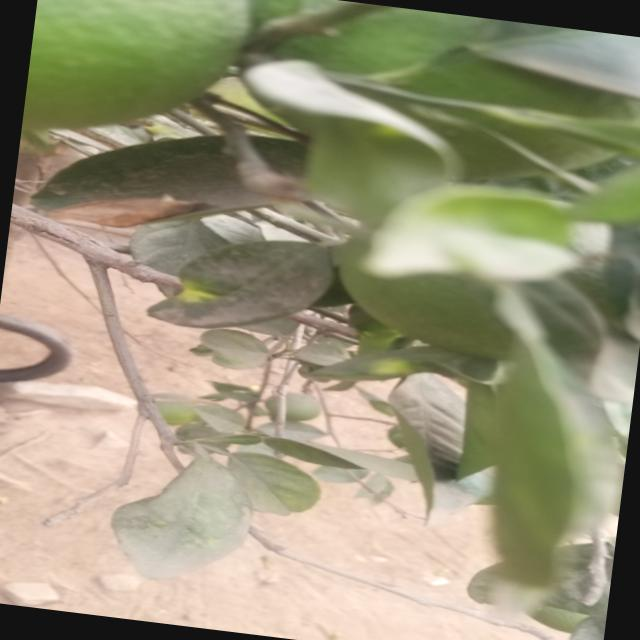Unripe: (21, 0, 262, 157)
